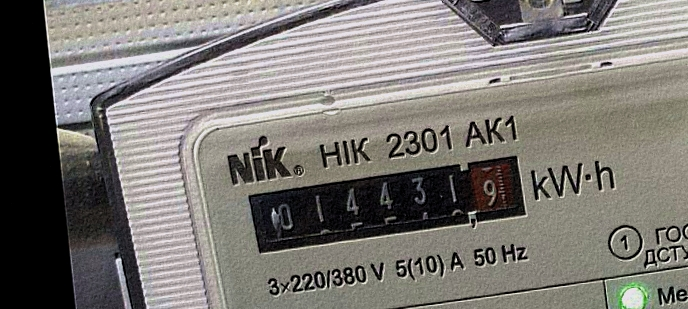0: (274, 199, 297, 234)
1: (309, 190, 330, 225), (445, 172, 461, 205)
3: (408, 175, 430, 209)
4: (340, 184, 364, 219), (374, 178, 396, 213)
9: (480, 176, 500, 208)
screen: (238, 147, 541, 263)
